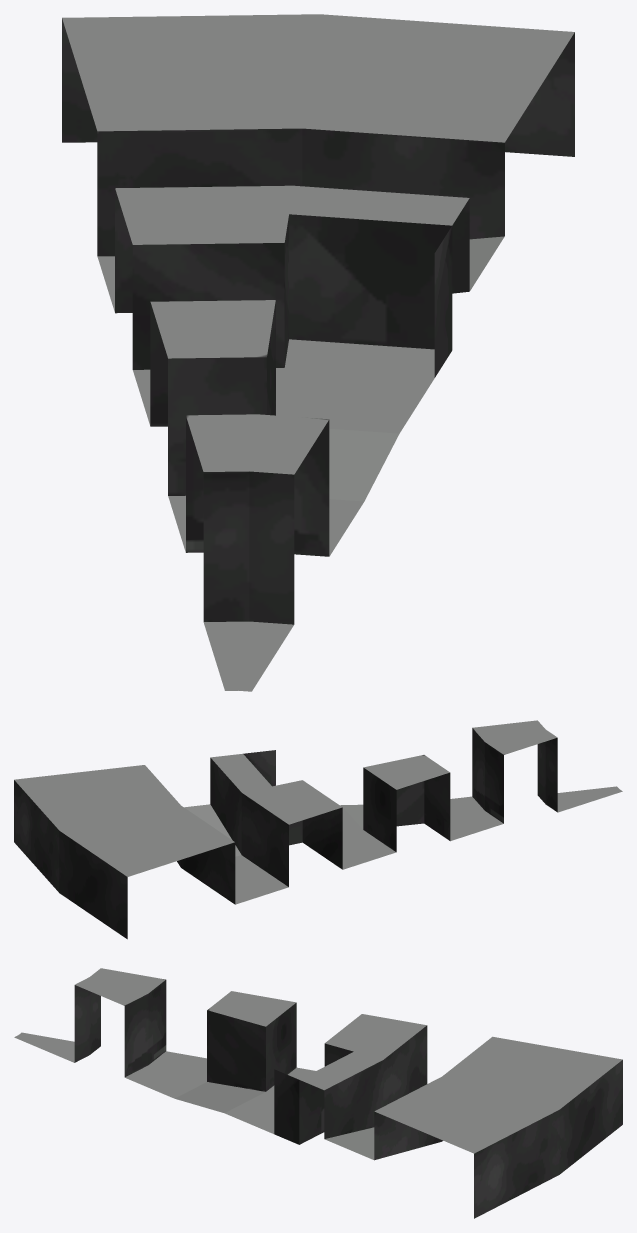
Rendered from bottom_02.obj.
The picture shows the model from 3 angles, top to bottom: view 1: azimuth 30°, elevation 25°; view 2: azimuth 150°, elevation 25°; view 3: azimuth 270°, elevation 25°; orthographic projection. The views are drawn at different scales.
Parts seen in each view (by area): view 1: Cylinder.005; view 2: Cylinder.005; view 3: Cylinder.005.
Part boxes in pixels (x1,y1,x2,y2): Cylinder.005: (62, 14, 574, 691); Cylinder.005: (14, 720, 622, 939); Cylinder.005: (14, 968, 622, 1218).
Size of the model in its own units: 26.25 by 4.8 by 33.89.
